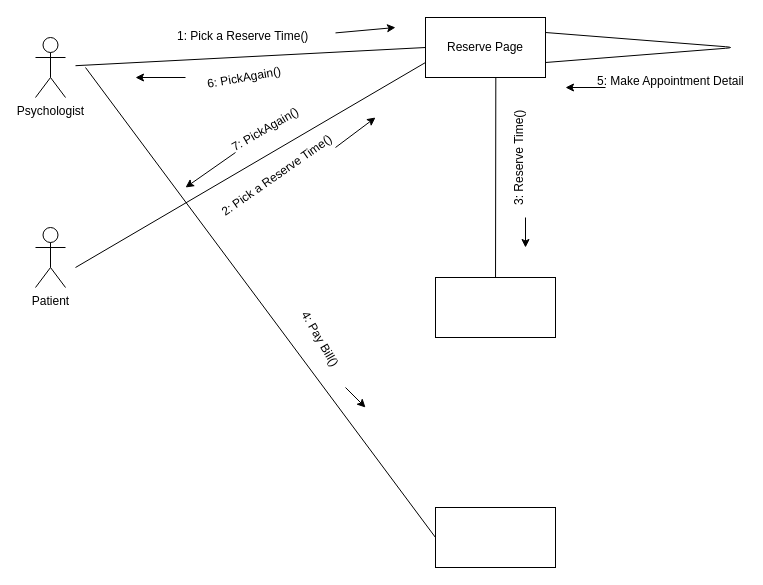
Image size: 763x585. Some labels were removed from this diagram. Here are the shapes that lost their labels. From the top down, the centre of each, then its label:
the point at 495,307: Reserve
the point at 495,537: Payment Page
